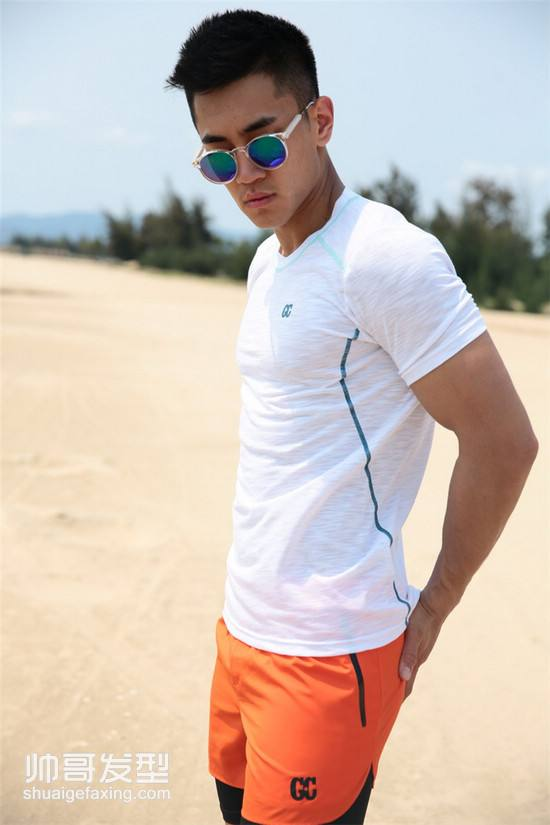person: (100, 4, 400, 520)
